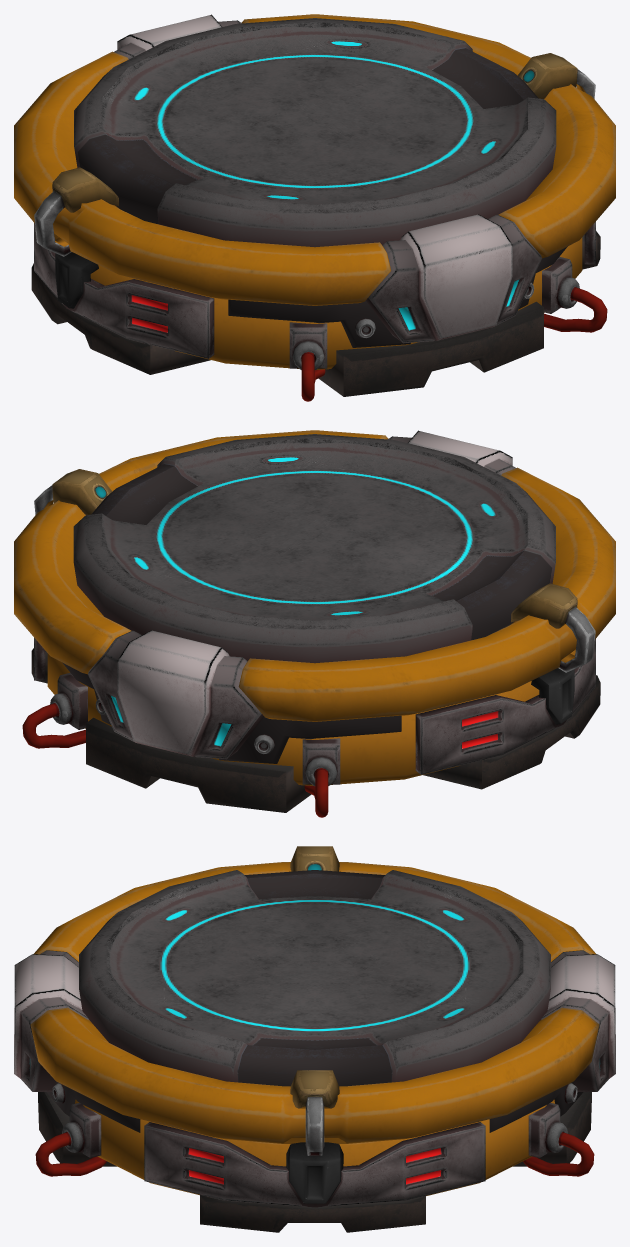
Rendered from taizi.FBX.
The picture shows the model from 3 angles, top to bottom: view 1: azimuth 30°, elevation 25°; view 2: azimuth 150°, elevation 25°; view 3: azimuth 270°, elevation 25°; orthographic projection. The views are drawn at different scales.
Visible parts, largest first — view 1: Object012; view 2: Object012; view 3: Object012.
Boxes of the visible parts, x1=… form: Object012: x1=14, y1=14, x2=615, y2=401; Object012: x1=14, y1=430, x2=615, y2=817; Object012: x1=14, y1=846, x2=615, y2=1232.
Bounding box in the file's own units: 1.34 × 0.3824 × 1.29.
1 material, 1 textured.
